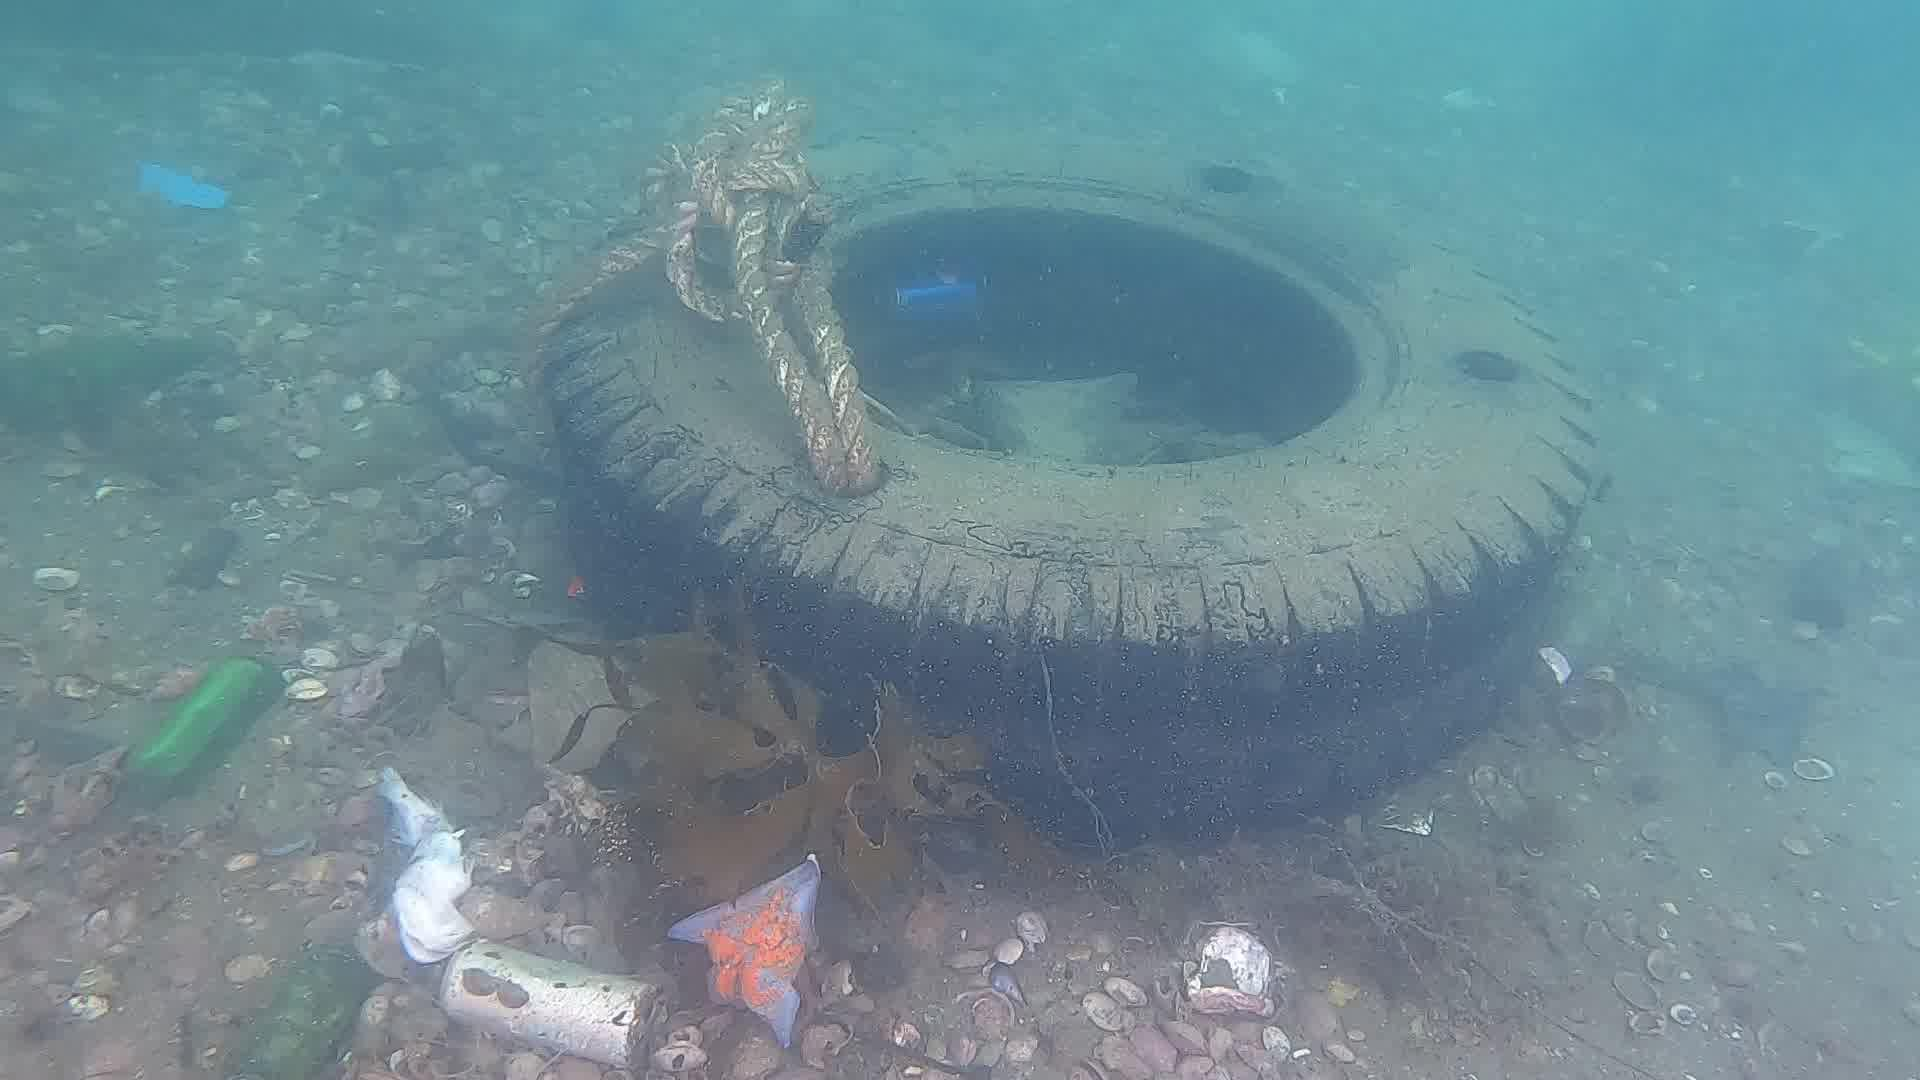bundle of ropes: (522, 70, 890, 501)
tire: (531, 123, 1610, 848)
